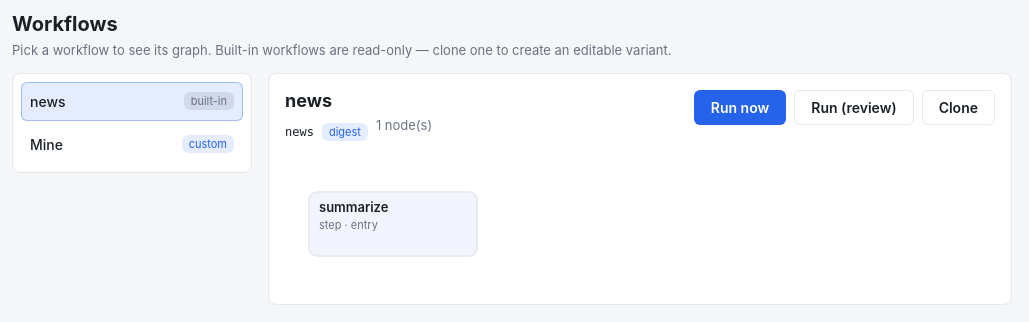
Test case: WorkflowsPage › shows the selected workflow's graph and switches on click
What coordinates should you click on to do the following:
click the text "Mine"
I would click on:
 (46, 144)
Its box is [30,134,63,154].
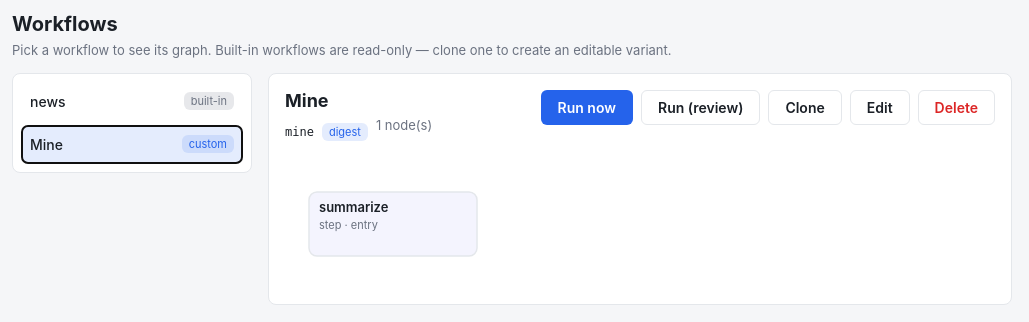
expect the heading "Mine" is shown: met, box [285,90,329,110]
